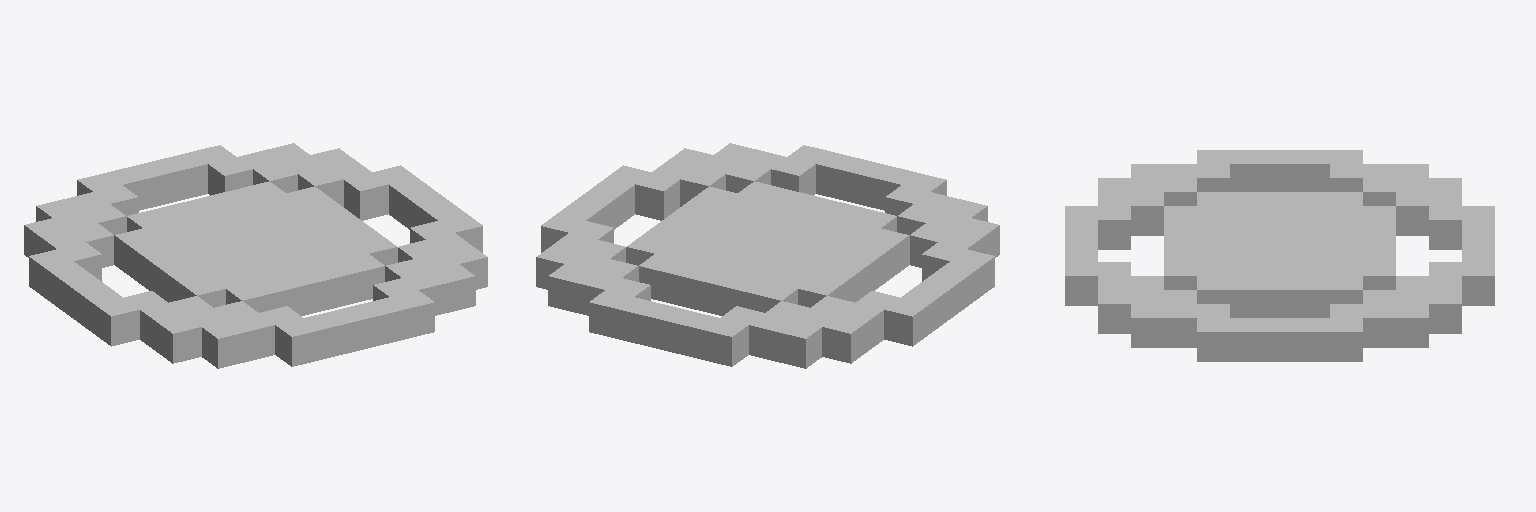
File: teleporter.obj
The picture shows the model from 3 angles: view 1: azimuth 30°, elevation 25°; view 2: azimuth 150°, elevation 25°; view 3: azimuth 270°, elevation 25°; orthographic projection.
Size of the model in its own units: 13 by 1 by 13.